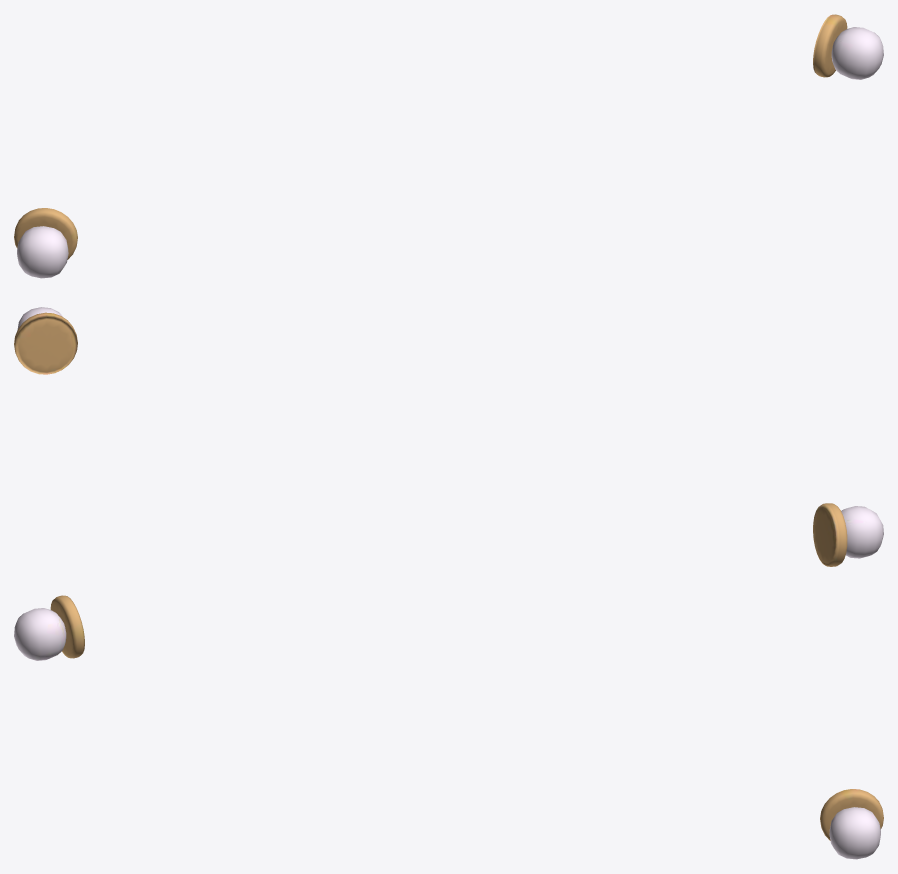
The model's file is earings8.glb.
The picture shows the model from 3 angles, top to bottom: view 1: azimuth 30°, elevation 25°; view 2: azimuth 150°, elevation 25°; view 3: azimuth 330°, elevation 25°; orthographic projection.
Parts seen in each view (by area): view 1: earrings.008; view 2: earrings.008; view 3: earrings.008.
Boxes of the visible parts, x1=… form: earrings.008: x1=14, y1=14, x2=883, y2=278; earrings.008: x1=14, y1=307, x2=883, y2=566; earrings.008: x1=14, y1=595, x2=883, y2=859.
Bounding box in the file's own units: 1.46 × 0.0939 × 0.1081.
1 material, 1 textured.
